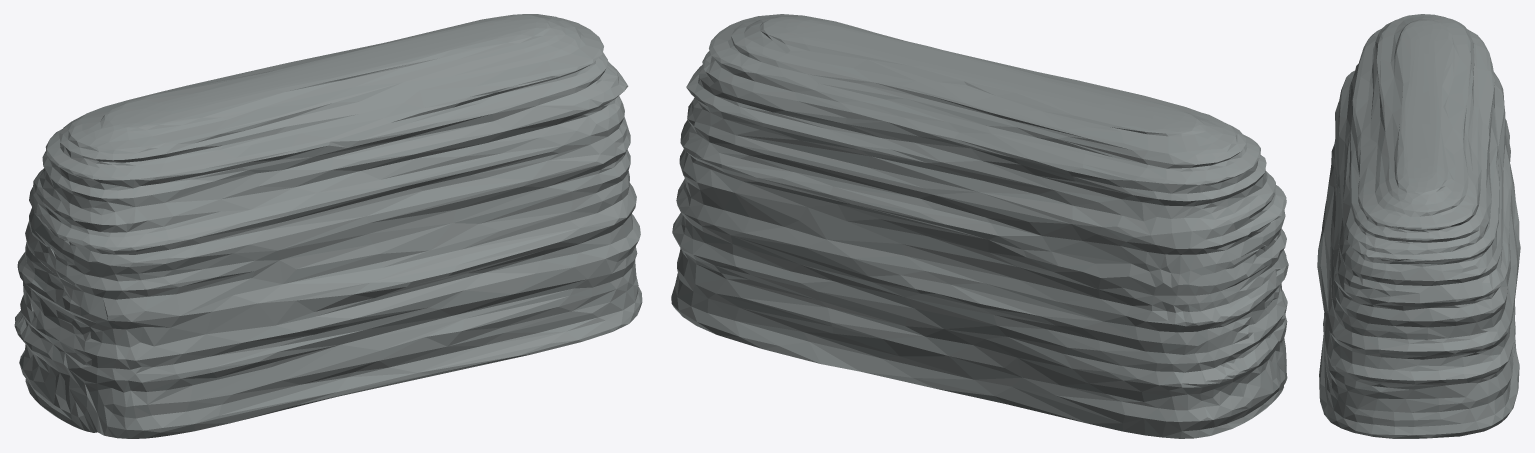
The model's file is mesh_rock_huge_01.fbx.
3 views of the same model, side by side, from view 1: azimuth 30°, elevation 25°; view 2: azimuth 150°, elevation 25°; view 3: azimuth 270°, elevation 25° (orthographic). The views are drawn at different scales.
Visible parts, largest first — view 1: mesh_rock_huge_01_LOD0; view 2: mesh_rock_huge_01_LOD0; view 3: mesh_rock_huge_01_LOD0.
Part boxes in pixels (bbox=[...]): mesh_rock_huge_01_LOD0: bbox=[14, 14, 642, 438]; mesh_rock_huge_01_LOD0: bbox=[671, 14, 1288, 438]; mesh_rock_huge_01_LOD0: bbox=[1317, 14, 1520, 438].
Size of what is drawn, in the model's own units: 13.49 by 6.14 by 5.09.
